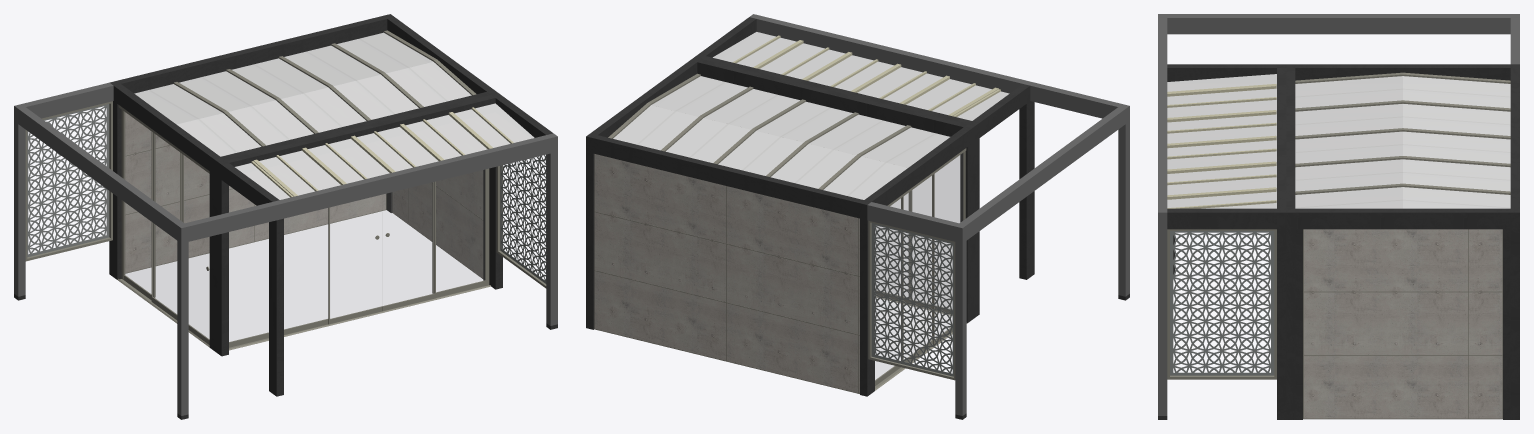
File: agp9_matblack.fbx
3 renders of one model, left to right at view 1: azimuth 30°, elevation 25°; view 2: azimuth 150°, elevation 25°; view 3: azimuth 270°, elevation 25°, orthographic. The views are drawn at different scales.
Visible parts, largest first — view 1: agp9_matbrack; view 2: agp9_matbrack; view 3: agp9_matbrack.
Boxes of the visible parts, x1,y1,x2,y2 form: agp9_matbrack: (14, 14, 557, 419); agp9_matbrack: (586, 14, 1129, 419); agp9_matbrack: (1158, 14, 1519, 419).
Size of the model in its own units: 514 by 250 by 395.
15 materials, 9 textured.
